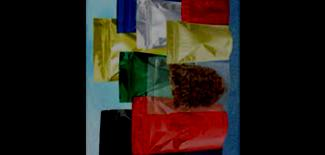Plastic: (165, 24, 234, 64)
